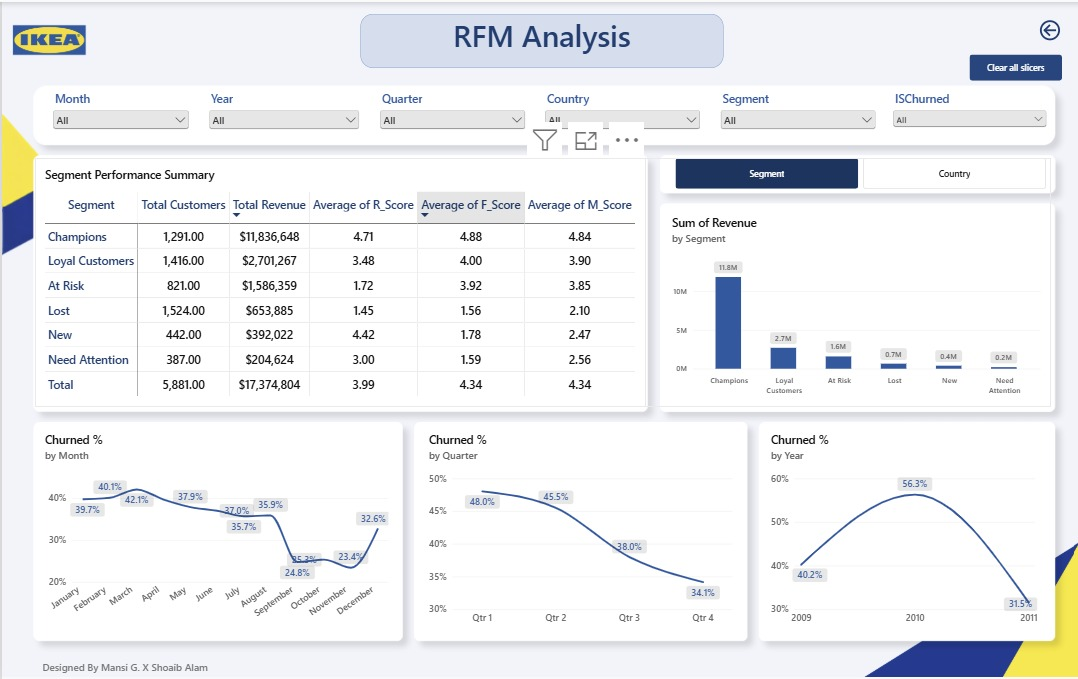

The dashboard page shown, as its layout file describes it:
{"tool":"powerbi","page":{"name":"RFM Analysis","canvas":[1750,1100],"ordinal":2},"visuals":[{"type":"slicer","fields":{"Values":["Sheet1.InvoiceDate.Variation.Date Hierarchy.Month"]},"box":[77.8,143.4,229.7,103.2],"z":0},{"type":"pivotTable","title":"Segment Performance Summary","fields":{"Rows":["Sheet1.Segment"],"Values":["Sheet1.Total Customers","Sheet1.Total Revenue","Avg(Sheet1.R_Score)","Avg(Sheet1.F_Score)","Avg(Sheet1.M_Score)"]},"box":[53.5,252.7,989.1,403.4],"z":0,"group":"g2"},{"type":"lineChart","fields":{"Category":["Sheet1.InvoiceMonth.Variation.Date Hierarchy.Year"],"Y":["Sheet1.Churned %"]},"box":[1231.2,684,464.6,345.9],"z":0,"group":"g1"},{"type":"slicer","fields":{"Values":["Sheet1.InvoiceDate.Variation.Date Hierarchy.Quarter"]},"box":[606.6,144.5,245.2,103.2],"z":1000},{"type":"columnChart","fields":{"Category":["Sheet1.Segment"],"Y":["Sum(Sheet1.Revenue)"]},"box":[1069.3,330.5,629.4,325.6],"z":1000,"group":"g2"},{"type":"lineChart","fields":{"Category":["Sheet1.InvoiceMonth.Variation.Date Hierarchy.Quarter"],"Y":["Sheet1.Churned %"]},"box":[676.3,684,524,345.9],"z":1000,"group":"g1"},{"type":"slicer","fields":{"Values":["Sheet1.InvoiceDate.Variation.Date Hierarchy.Year"]},"box":[330.4,144.5,252.9,103.2],"z":2000},{"type":"lineChart","fields":{"Category":["Sheet1.InvoiceMonth.Variation.Date Hierarchy.Month"],"Y":["Sheet1.Churned %"]},"box":[54.2,684,588.5,345.9],"z":2000,"group":"g1"},{"type":"slicer","fields":{"Values":["Sheet1.Country"]},"box":[875,144.5,260.7,100.7],"z":3000},{"type":"slicer","fields":{"Values":["Sheet1.Segment"]},"box":[1158.9,144.5,260.7,100.7],"z":4000},{"type":"slicer","fields":{"Values":["Sheet1.ISChurned"]},"box":[1437.7,144.5,258.1,100.7],"z":5000},{"type":"group","id":"g1","title":"Revenue","box":[54.2,684,1641.6,345.9],"z":7000},{"type":"bookmarkNavigator","box":[1091.8,252.9,600,50],"z":8000},{"type":"image","box":[0,0,153.1,123.9],"z":9000},{"type":"textbox","box":[65.6,1066.8,634.3,34],"z":10000},{"type":"textbox","box":[580.8,19.4,588.1,87.5],"z":11000},{"type":"actionButton","box":[1647.6,24.3,100,40],"z":12000},{"type":"actionButton","box":[1566.7,85.8,150,42.5],"z":13000},{"type":"group","id":"g2","title":"Segment","box":[53.5,252.7,1645.2,403.4],"z":15000}]}

Visuals, with their boxes in screenshot pixels (x1, y1, x2, y2), scaled from the page's 1750x1100 canvas onto the 1078x679 screenshot:
slicer - Sheet1.InvoiceDate.Variation.Date Hierarchy.Month: 48:89:189:152
"Segment Performance Summary" pivotTable: 33:156:642:405
lineChart - Sheet1.InvoiceMonth.Variation.Date Hierarchy.Year x Sheet1.Churned %: 758:422:1045:636
slicer - Sheet1.InvoiceDate.Variation.Date Hierarchy.Quarter: 374:89:525:153
columnChart - Sheet1.Segment x Sum(Sheet1.Revenue): 659:204:1046:405
lineChart - Sheet1.InvoiceMonth.Variation.Date Hierarchy.Quarter x Sheet1.Churned %: 417:422:739:636
slicer - Sheet1.InvoiceDate.Variation.Date Hierarchy.Year: 204:89:359:153
lineChart - Sheet1.InvoiceMonth.Variation.Date Hierarchy.Month x Sheet1.Churned %: 33:422:396:636
slicer - Sheet1.Country: 539:89:700:151
slicer - Sheet1.Segment: 714:89:874:151
slicer - Sheet1.ISChurned: 886:89:1045:151
"Revenue" group: 33:422:1045:636
bookmarkNavigator: 673:156:1042:187
image: 0:0:94:76
textbox: 40:659:431:678
textbox: 358:12:720:66
actionButton: 1015:15:1077:40
actionButton: 965:53:1057:79
"Segment" group: 33:156:1046:405
